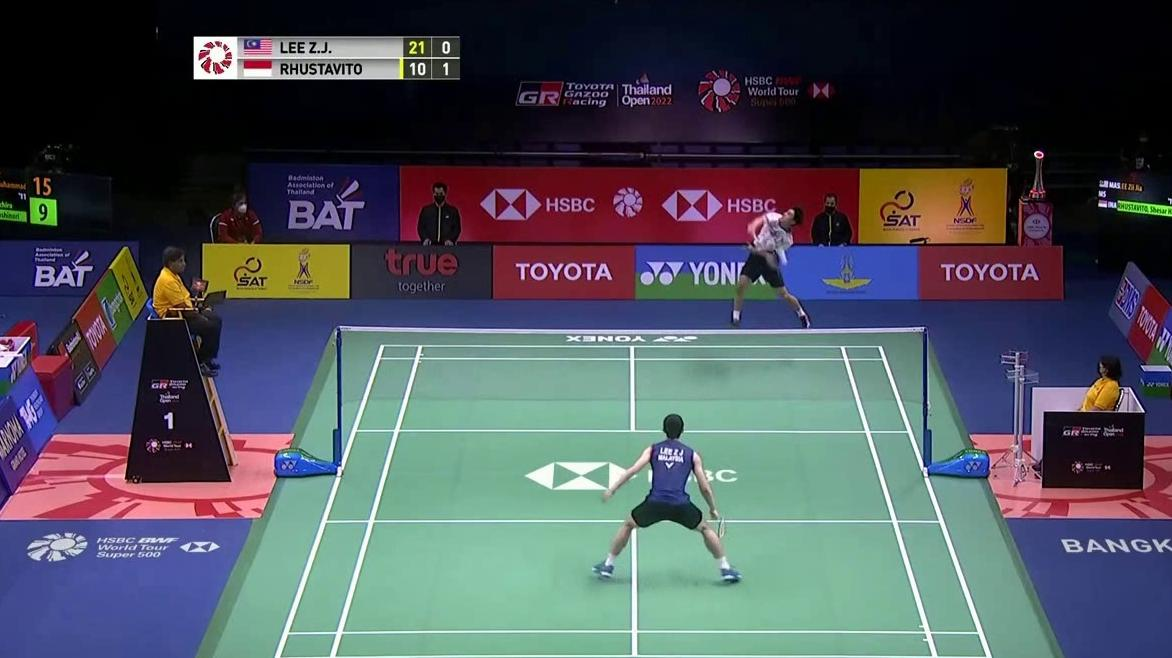racket: (710, 508, 726, 538)
